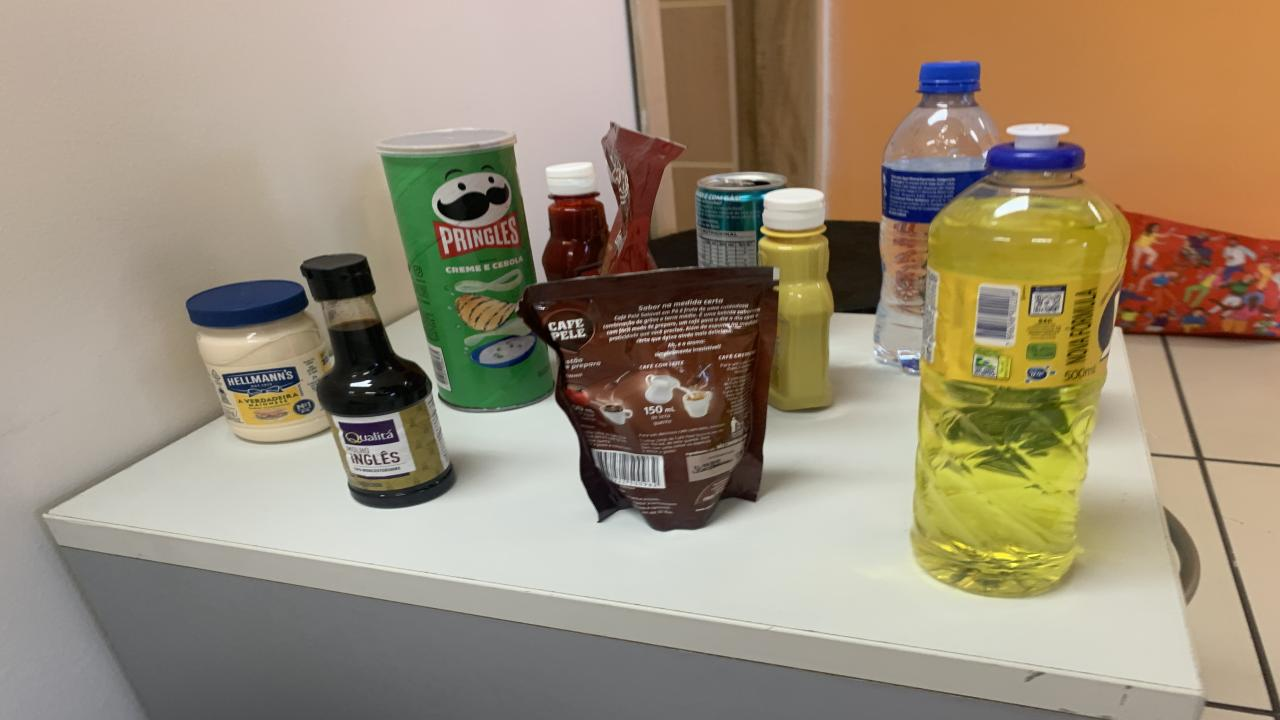Coffee-Pantry_Items: (520, 266, 778, 531)
Detergent-Cleanup_Items: (912, 126, 1130, 596)
English_Sauce-Pantry_Items: (300, 253, 455, 508)
Ketchup-Pantry_Items: (542, 161, 608, 281)
Mayonnaise-Pantry_Items: (188, 279, 330, 442)
Mustard-Pantry_Items: (758, 188, 835, 411)
Pringles-Snacks: (378, 129, 552, 411)
Tea-Drinks: (695, 171, 788, 266)
Tomato_Sauce-Pantry_Items: (600, 124, 685, 276)
Water_Bottle-Drinks: (875, 62, 1000, 373)
